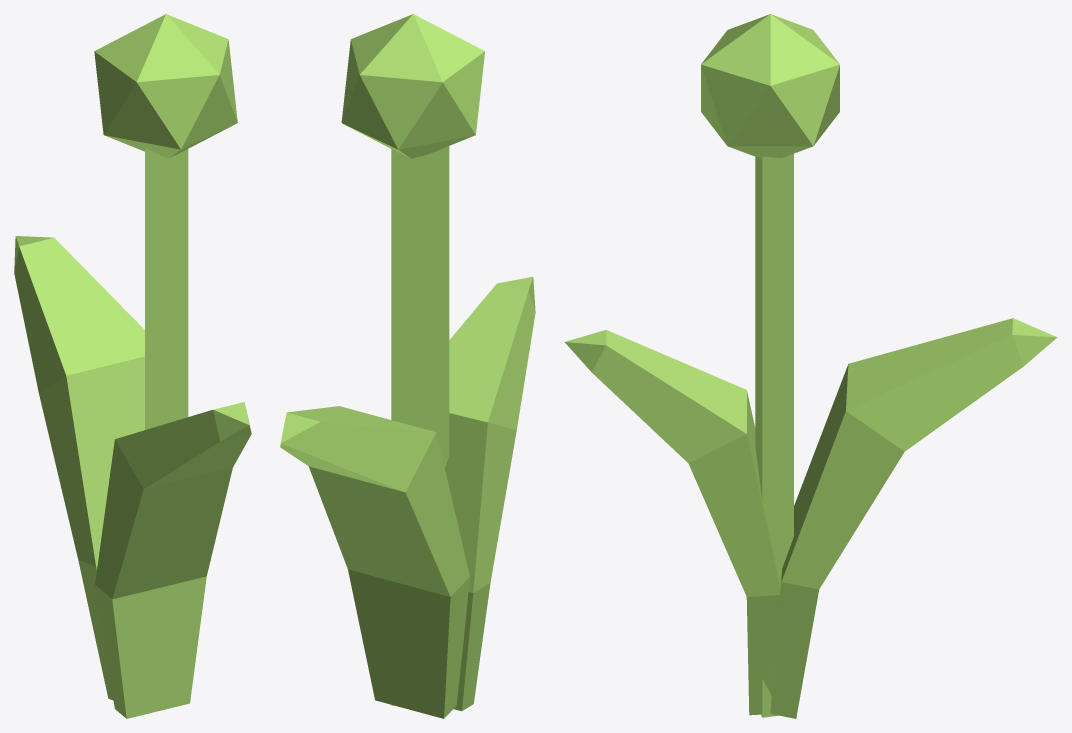
File: flower_new_2.fbx
The picture shows the model from 3 angles, left to right: view 1: azimuth 30°, elevation 25°; view 2: azimuth 150°, elevation 25°; view 3: azimuth 270°, elevation 25°; orthographic projection.
Visible parts, largest first — view 1: flower.002; view 2: flower.002; view 3: flower.002.
Part boxes in pixels (x1=…): flower.002: x1=14, y1=14, x2=251, y2=718; flower.002: x1=280, y1=14, x2=535, y2=718; flower.002: x1=564, y1=14, x2=1056, y2=718.
Size of the model in its own units: 18.31 by 93.69 by 60.28.
